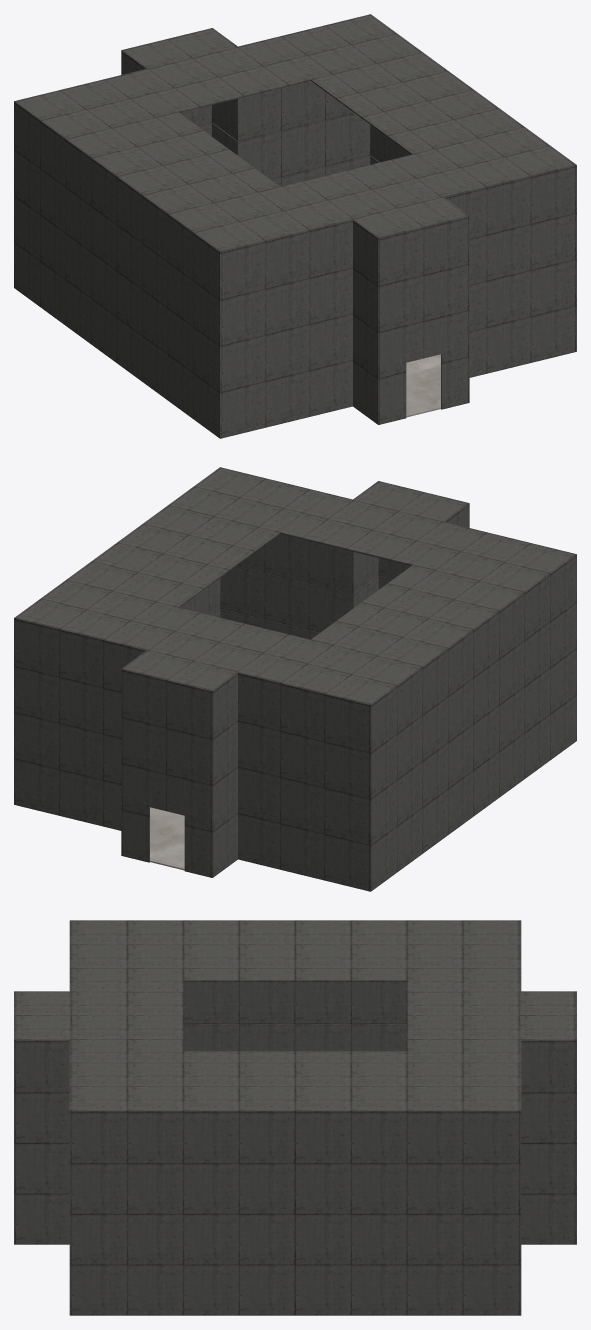
Rendered from chamber1.gltf.
3 renders of one model, top to bottom at view 1: azimuth 30°, elevation 25°; view 2: azimuth 150°, elevation 25°; view 3: azimuth 270°, elevation 25°, orthographic. The views are drawn at different scales.
Parts seen in each view (by area): view 1: chamber1; view 2: chamber1; view 3: chamber1.
Part boxes in pixels (x1=…): chamber1: x1=14, y1=14, x2=576, y2=438; chamber1: x1=14, y1=467, x2=576, y2=891; chamber1: x1=14, y1=920, x2=576, y2=1315.
Size of the model in its own units: 8.06 by 4.03 by 10.06.
Materials: 2 (2 with a texture image).
